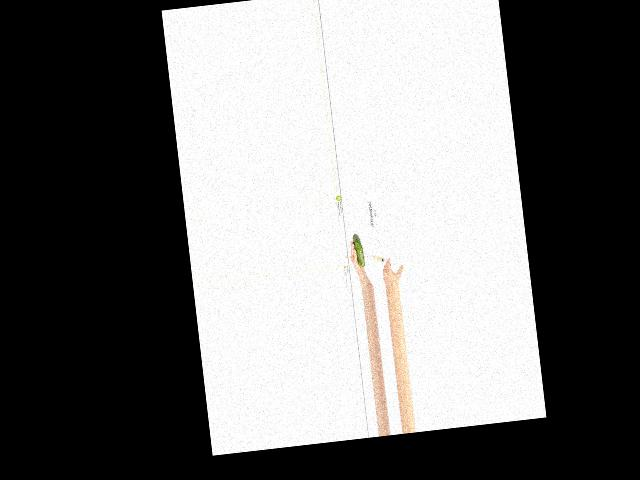cucumber: (352, 233, 364, 268)
